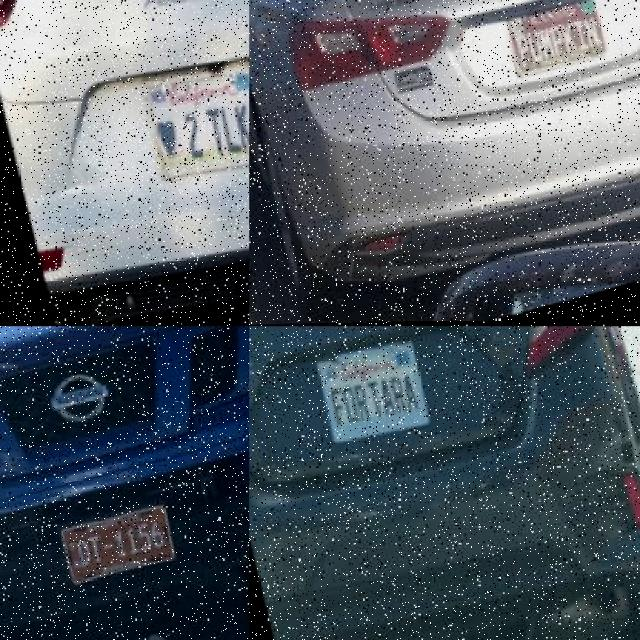licenseplate: (140, 51, 249, 194), (315, 335, 430, 443), (62, 506, 178, 587), (504, 0, 611, 80)
